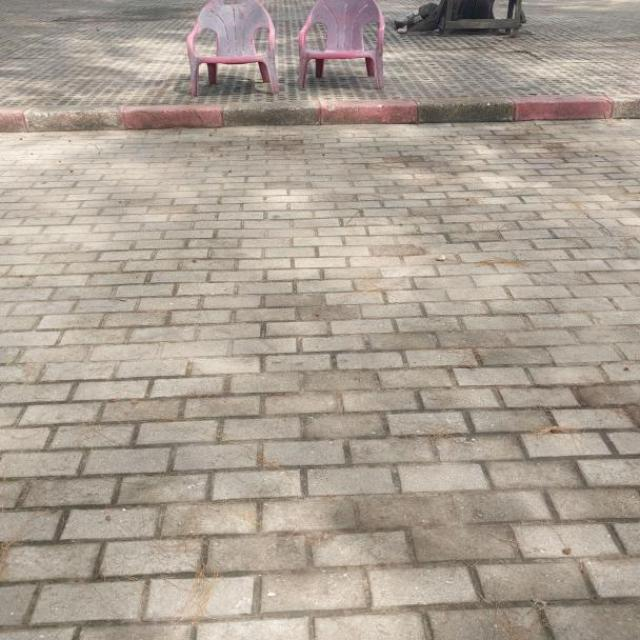chair ahead at: (179, 0, 288, 98), (295, 0, 393, 89)
